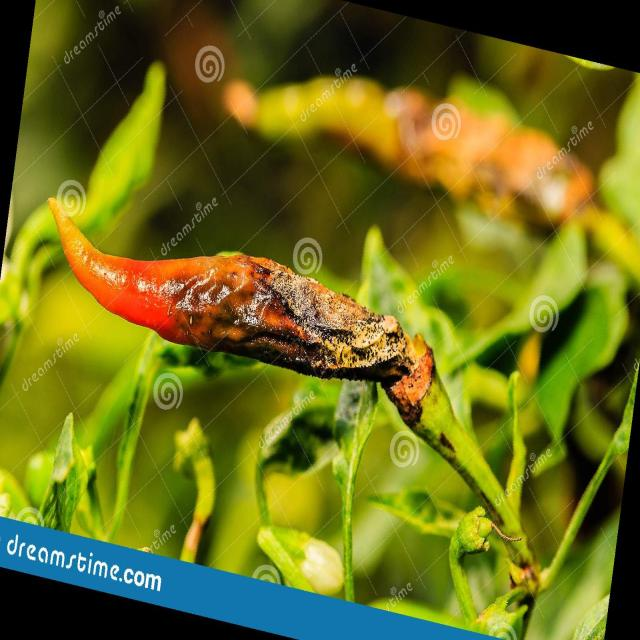Moko: (127, 241, 453, 452)
